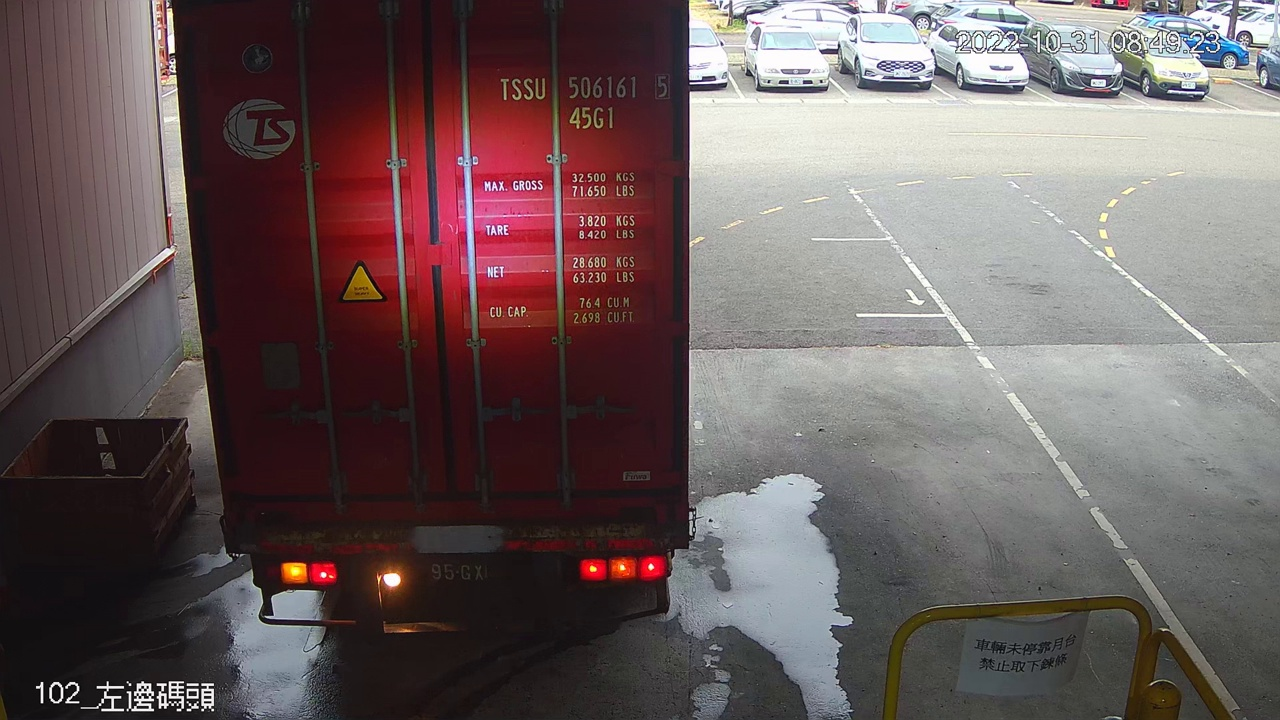container: (494, 66, 675, 137)
